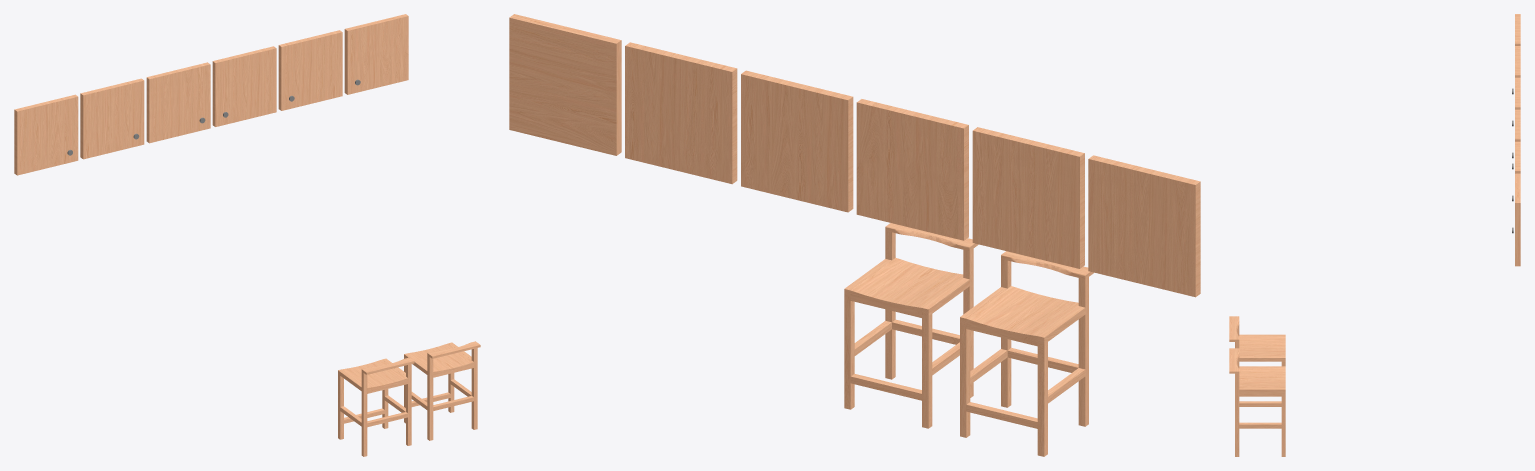
Rendered from Kitchen_Cabinet_Door.glb.
The picture shows the model from 3 angles, left to right: view 1: azimuth 30°, elevation 25°; view 2: azimuth 150°, elevation 25°; view 3: azimuth 270°, elevation 25°; orthographic projection. The views are drawn at different scales.
Parts seen in each view (by area): view 1: Kitchen_Cabinet_Door_Chair; view 2: Kitchen_Cabinet_Door_Chair; view 3: Kitchen_Cabinet_Door_Chair.
Part boxes in pixels (bbox=[...]): Kitchen_Cabinet_Door_Chair: bbox=[14, 14, 480, 456]; Kitchen_Cabinet_Door_Chair: bbox=[509, 14, 1200, 456]; Kitchen_Cabinet_Door_Chair: bbox=[1229, 14, 1520, 456].
Bounding box in the file's own units: 1.6 × 1.14 × 1.04.
2 materials, 1 textured.
